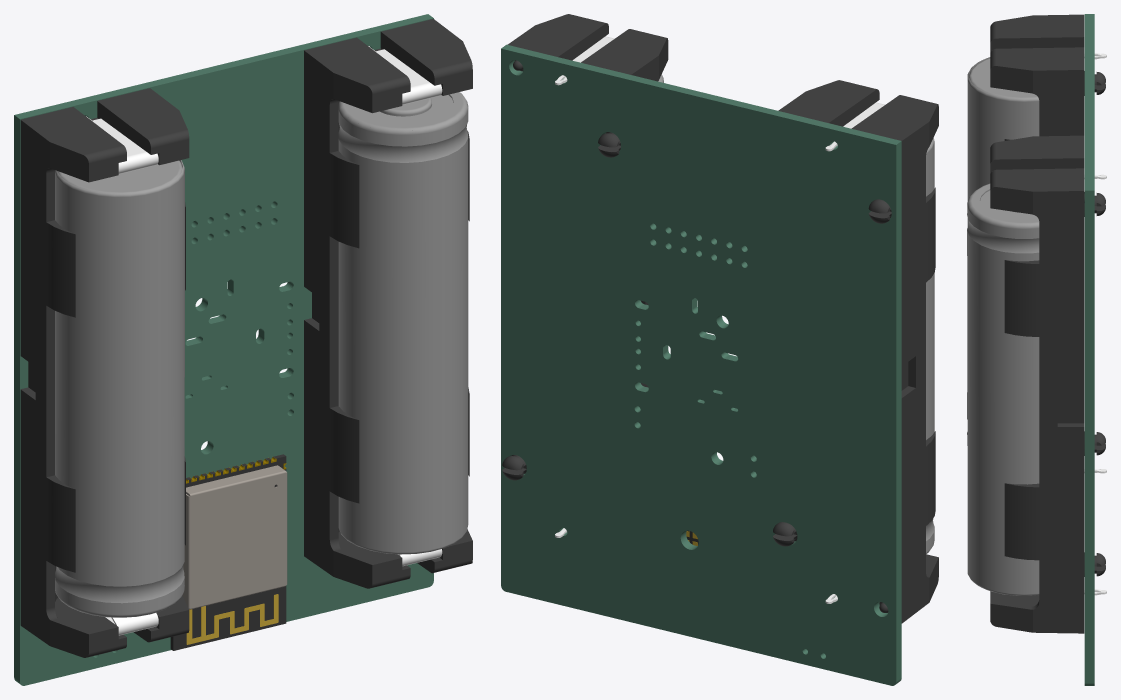
File: ZumoComSystem.obj
3 renders of one model, left to right at view 1: azimuth 30°, elevation 25°; view 2: azimuth 150°, elevation 25°; view 3: azimuth 270°, elevation 25°, orthographic. The views are drawn at different scales.
Visible parts, largest first — view 1: Body1:5, Body4, Body4:2, Body3:3, Body3, Body194, Body193, Body1:4, Body43, Body2:3, Body1, Body3:1 (+1 smaller); view 2: Body1:5, Body3:3, Body3, Body4:2; view 3: Body3, Body4, Body3:3, Body1:5, Body4:2, Body1:4, Body3:1.
Part boxes in pixels (x1,y1,x2,y2): Body1:5: (14,14,433,685); Body4: (338,92,468,554); Body4:2: (55,160,184,617); Body3:3: (20,88,189,657); Body3: (304,19,472,588); Body194: (182,465,287,609); Body193: (170,454,286,650); Body1:4: (57,160,182,193); Body43: (186,594,278,644); Body2:3: (86,116,158,173); Body1: (368,46,442,104); Body3:1: (354,95,453,130); Body1:5: (501,44,901,685); Body3:3: (773,80,938,623); Body3: (502,14,668,480); Body4:2: (926,137,934,553); Body3: (990,135,1105,633); Body4: (967,183,1039,595); Body3:3: (990,14,1105,455); Body1:5: (1084,14,1094,685); Body4:2: (967,57,1039,445); Body1:4: (969,58,1038,98); Body3:1: (980,190,1037,219).
Bounding box in the file's own units: 6.6 × 8.65 × 2.21.
